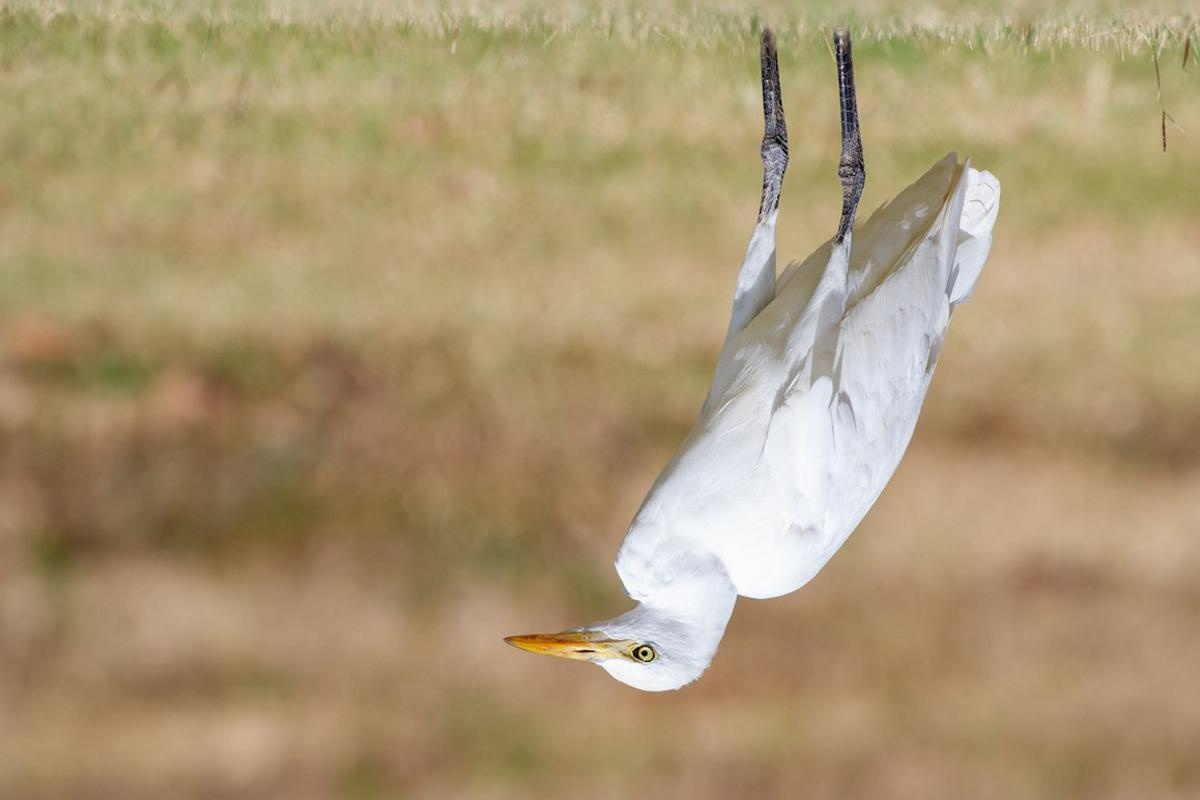egret: (495, 22, 1064, 698)
